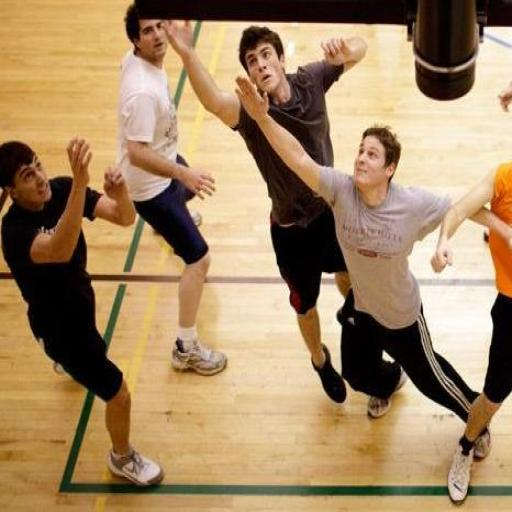person: (237, 77, 477, 421), (165, 21, 349, 402), (0, 139, 163, 486), (118, 3, 226, 374), (431, 162, 511, 502)
